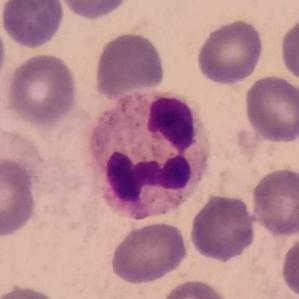Neutrophil: (85, 80, 217, 230)
RBC: (4, 50, 80, 128), (108, 219, 190, 286), (92, 30, 168, 98), (188, 192, 258, 264), (194, 17, 266, 86), (241, 72, 298, 144), (249, 166, 299, 239), (0, 156, 40, 240), (0, 0, 66, 50), (52, 0, 134, 21), (158, 277, 234, 299), (277, 13, 299, 86), (278, 232, 299, 299), (0, 282, 66, 298)
